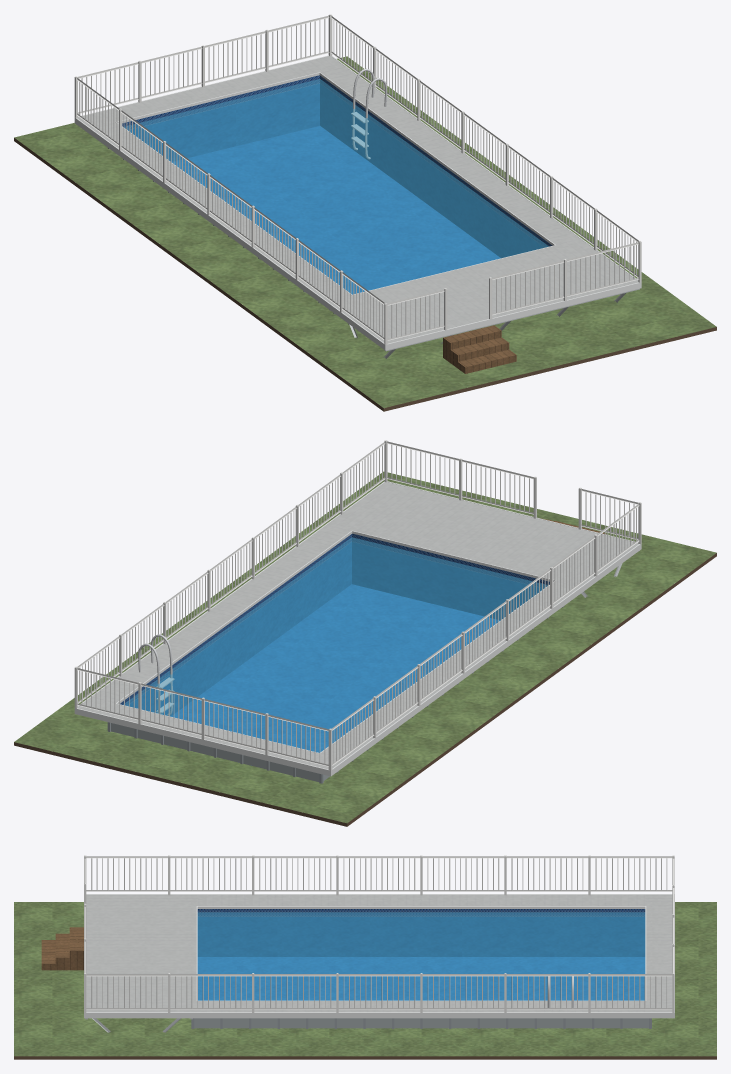
File: kayak-pool-16x32-gray-end-rec-fence.c2ab71958e.glb
3 views of the same model, one above another, from view 1: azimuth 30°, elevation 25°; view 2: azimuth 150°, elevation 25°; view 3: azimuth 270°, elevation 25° (orthographic). The views are drawn at different scales.
Parts seen in each view (by area): view 1: water, ground, deck, liner_floor, fence, liner_wall, fascia, soil, steps, steel, stud; view 2: water, ground, deck, liner_floor, fence, liner_wall, fascia, soil, wall, steel; view 3: water, ground, deck, liner_wall, liner_floor, fence, fascia, wall, soil, steps, upright.
Boxes of the visible parts, x1,y1,x2,y2 form: water: (124, 79, 548, 294); ground: (14, 56, 716, 407); deck: (77, 56, 638, 343); liner_floor: (172, 126, 500, 294); fence: (74, 14, 641, 344); liner_wall: (122, 75, 552, 258); fascia: (74, 55, 641, 350); soil: (14, 138, 716, 411); steps: (443, 325, 516, 373); steel: (351, 68, 387, 159); stud: (329, 288, 639, 358); water: (123, 537, 547, 752); ground: (14, 471, 716, 823); deck: (78, 482, 638, 769); liner_floor: (171, 584, 500, 752); fence: (74, 440, 641, 770); liner_wall: (120, 533, 549, 716); fascia: (74, 481, 641, 776); soil: (14, 553, 716, 826); wall: (111, 723, 329, 781); steel: (138, 634, 174, 715); water: (197, 912, 645, 1000); ground: (14, 902, 716, 1056); deck: (86, 894, 672, 1012); liner_wall: (197, 909, 645, 956); liner_floor: (197, 957, 645, 1000); fence: (84, 855, 674, 1012); fascia: (84, 894, 674, 1018); wall: (194, 1018, 648, 1028); soil: (14, 1056, 716, 1059); steps: (41, 927, 83, 970); upright: (191, 1018, 651, 1028).
Size of the model in its own units: 7.92 by 2.15 by 15.23.
13 materials, 5 textured.
